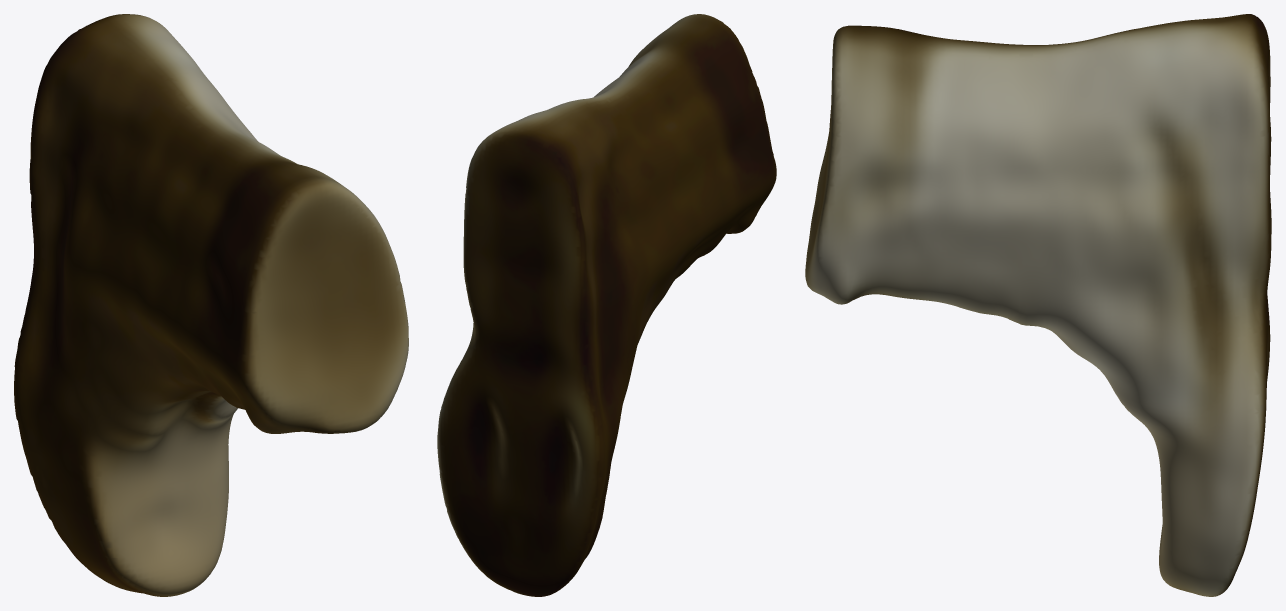
Rendered from shoe1.glb.
3 renders of one model, left to right at view 1: azimuth 30°, elevation 25°; view 2: azimuth 150°, elevation 25°; view 3: azimuth 270°, elevation 25°, orthographic. The views are drawn at different scales.
Size of the model in its own units: 0.3662 by 0.9995 by 0.7594.
